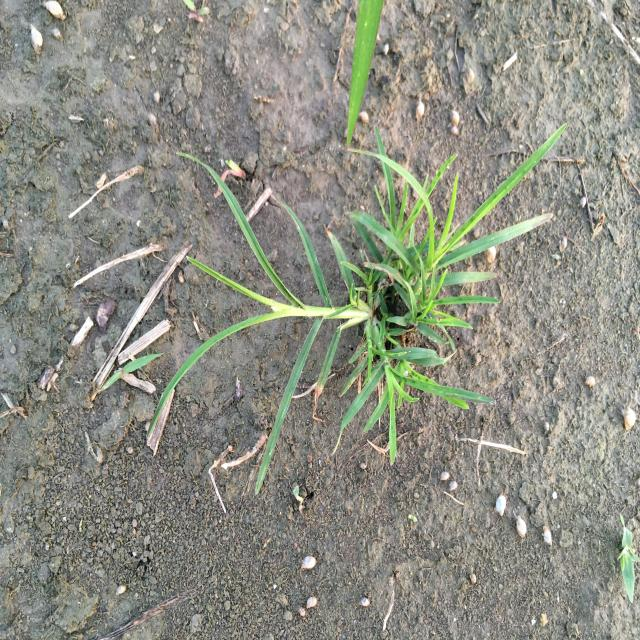Goosegrass: (144, 122, 568, 497)
